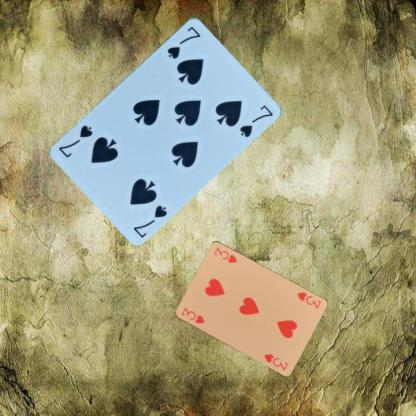3h: (178, 304, 206, 324), (294, 290, 322, 310)
7s: (130, 202, 168, 239), (165, 23, 202, 60)
